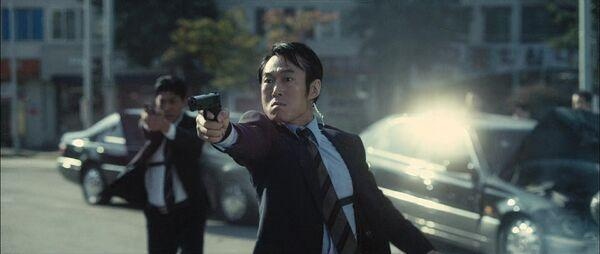Gun: (187, 92, 224, 126), (143, 103, 157, 116)
